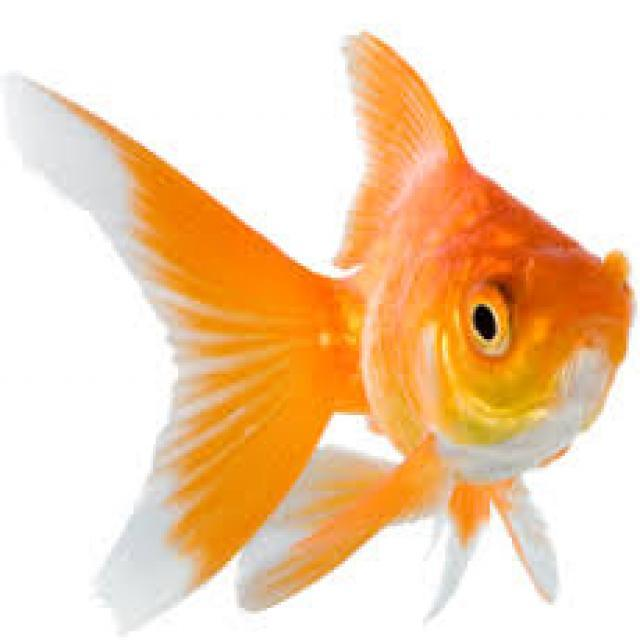goldfish: (7, 56, 631, 617)
